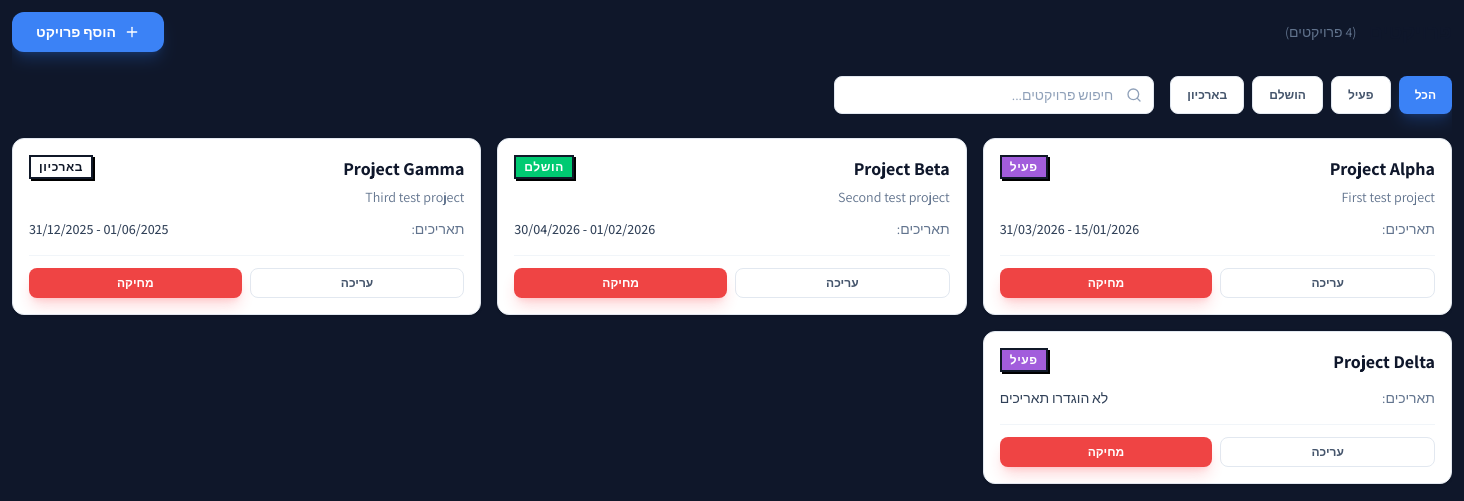
ProjectsList › status filter › filters to archived projects when archived button clicked
Click the button "בארכיון".
click(1207, 95)  # box x1=1170 y1=76 x2=1244 y2=114
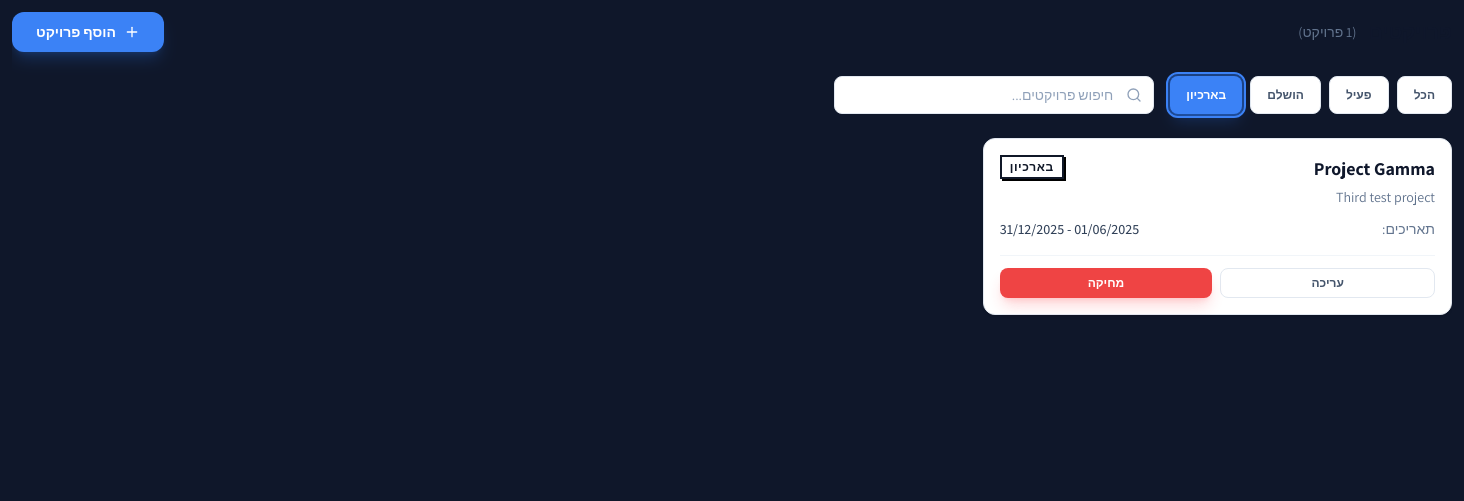
Check: the heading "Project Gamma" is shown, box x1=1314 y1=157 x2=1435 y2=180
Check: the heading "Project Alpha" is gone
